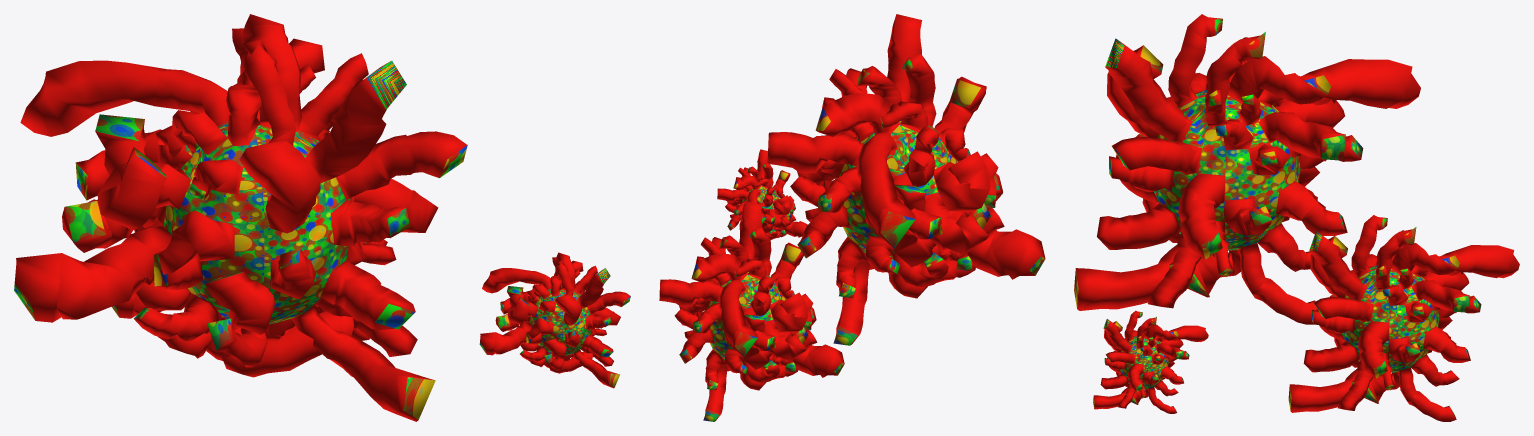
The model's file is Virus.gltf.
The picture shows the model from 3 angles, left to right: view 1: azimuth 30°, elevation 25°; view 2: azimuth 150°, elevation 25°; view 3: azimuth 270°, elevation 25°; orthographic projection. The views are drawn at different scales.
Visible parts, largest first — view 1: Sphere.002, Sphere, Sphere.001; view 2: Sphere.002, Sphere.001, Sphere; view 3: Sphere.002, Sphere.001, Sphere.
Part boxes in pixels (<box>): Sphere.002: <box>14,14,467,421</box>; Sphere: <box>479,252,630,388</box>; Sphere.001: <box>112,239,387,376</box>; Sphere.002: <box>767,14,1045,345</box>; Sphere.001: <box>659,201,844,421</box>; Sphere: <box>717,149,807,240</box>; Sphere.002: <box>1074,14,1420,324</box>; Sphere.001: <box>1288,215,1519,421</box>; Sphere: <box>1093,310,1208,413</box>.
Size of the model in its own units: 1.62 by 1.3 by 1.5.
Materials: 3 (3 with a texture image).
